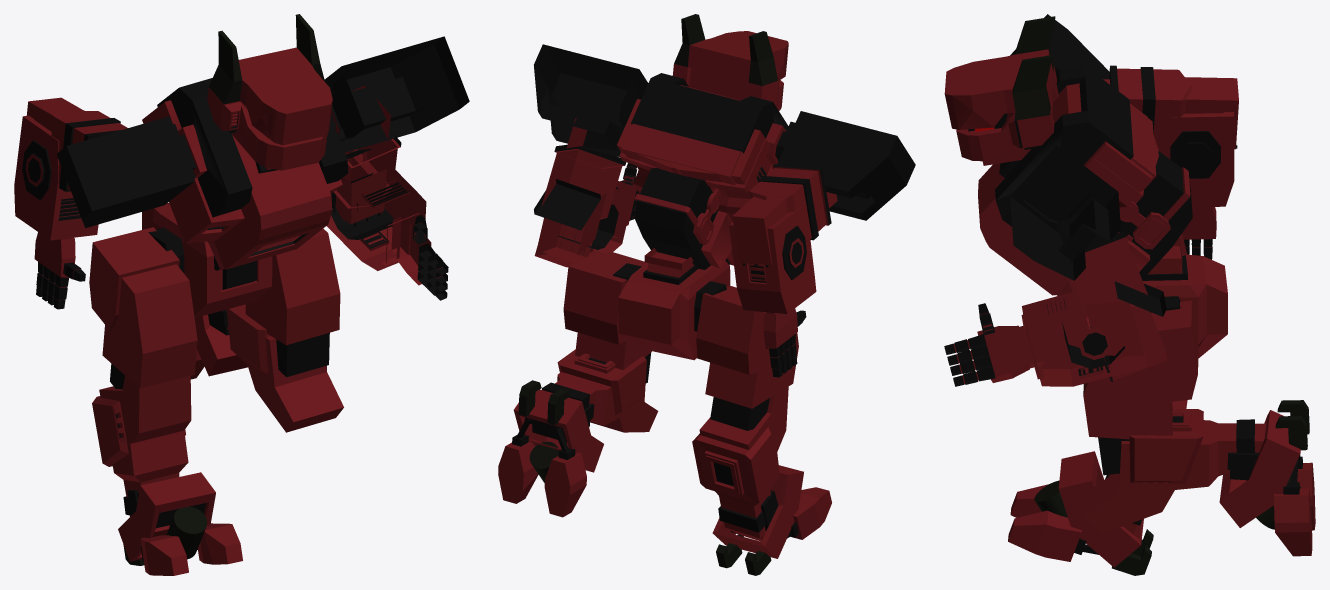
File: walk5.obj
3 renders of one model, left to right at view 1: azimuth 30°, elevation 25°; view 2: azimuth 150°, elevation 25°; view 3: azimuth 270°, elevation 25°, orthographic. The views are drawn at different scales.
Visible parts, largest first — view 1: R_UpperShoulder_Cube.030; view 2: R_UpperShoulder_Cube.030; view 3: R_UpperShoulder_Cube.030.
Part boxes in pixels (x1=…): R_UpperShoulder_Cube.030: x1=14, y1=14, x2=469, y2=575; R_UpperShoulder_Cube.030: x1=498, y1=14, x2=915, y2=575; R_UpperShoulder_Cube.030: x1=944, y1=14, x2=1315, y2=575.
Bounding box in the file's own units: 1.42 × 1.94 × 1.16.
